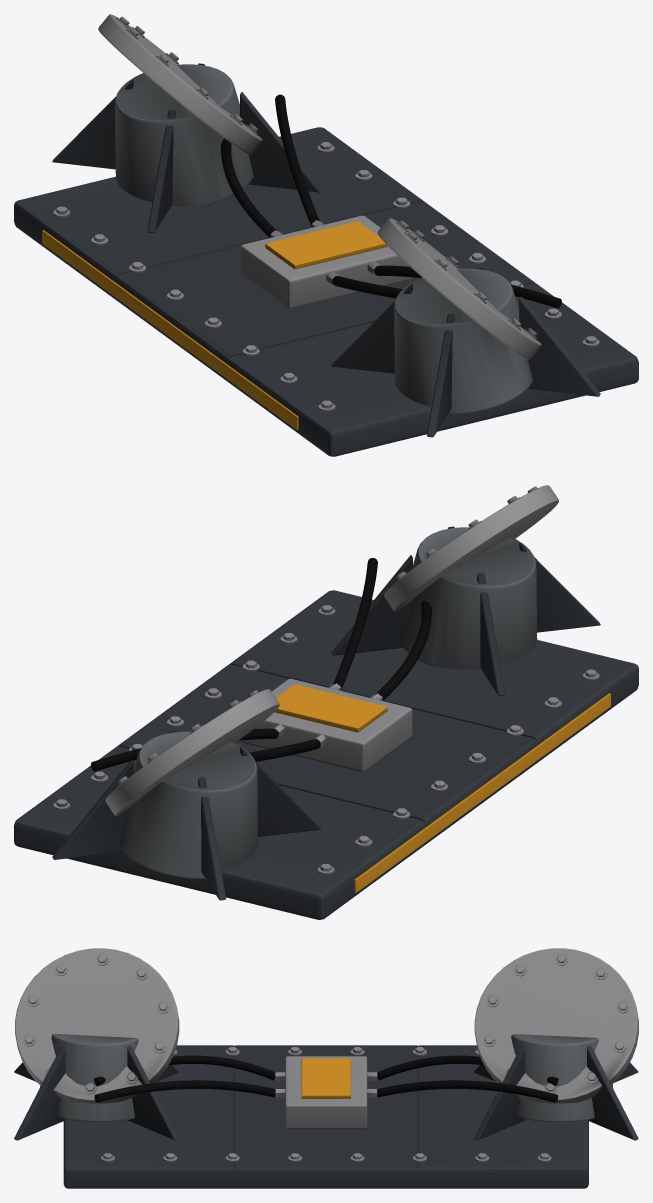
The model's file is bastion.saddle_left.glb.
3 renders of one model, top to bottom at view 1: azimuth 30°, elevation 25°; view 2: azimuth 150°, elevation 25°; view 3: azimuth 270°, elevation 25°, orthographic. The views are drawn at different scales.
Size of the model in its own units: 1.81 by 1.04 by 3.81.
